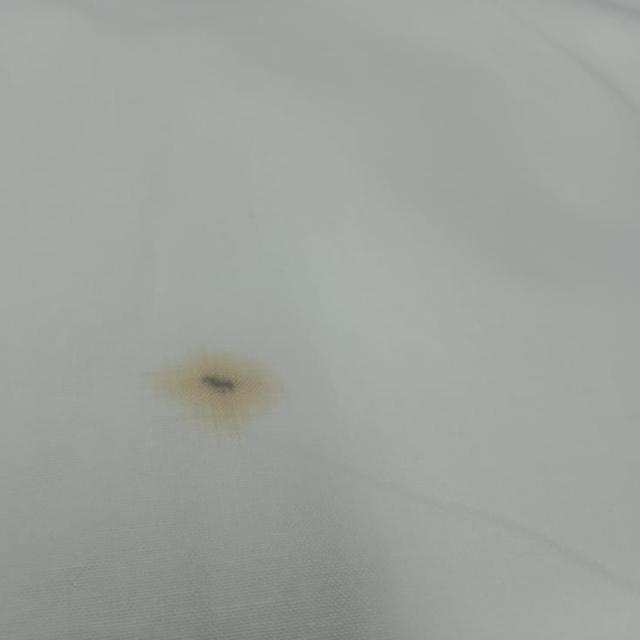stain: (152, 342, 276, 433)
